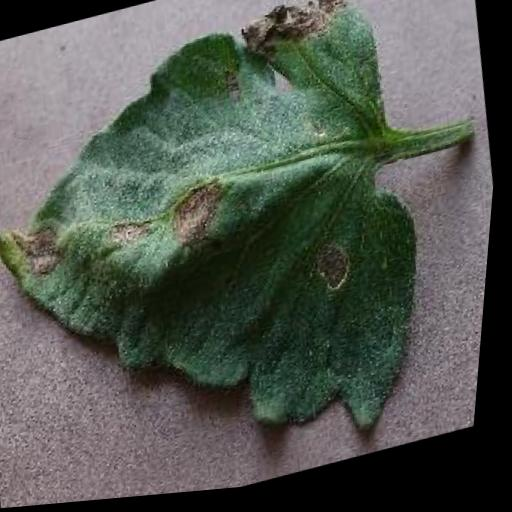Early Blight: (0, 0, 471, 512)
